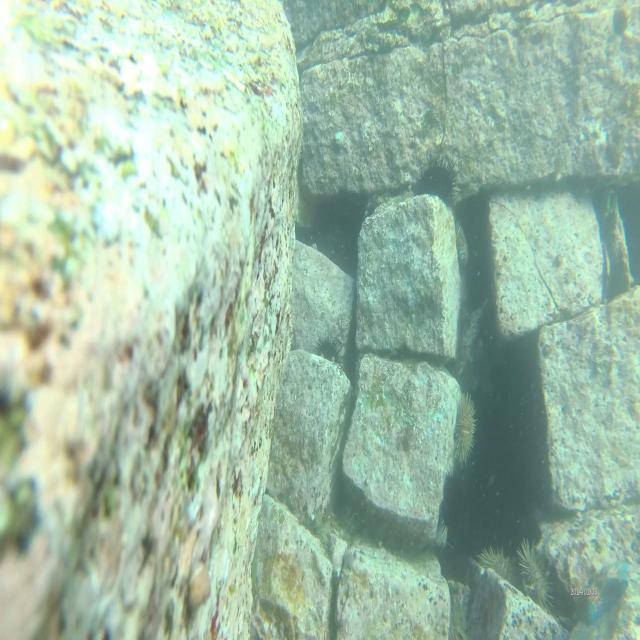echinus: (411, 153, 464, 209), (515, 538, 554, 614), (450, 389, 477, 468), (476, 540, 514, 584), (312, 329, 345, 374), (612, 0, 630, 36)
starfish: (574, 555, 630, 625)
